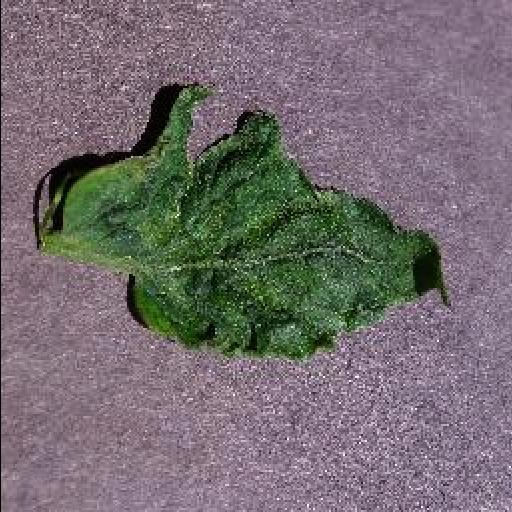disease_tomato: (64, 82, 460, 362)
